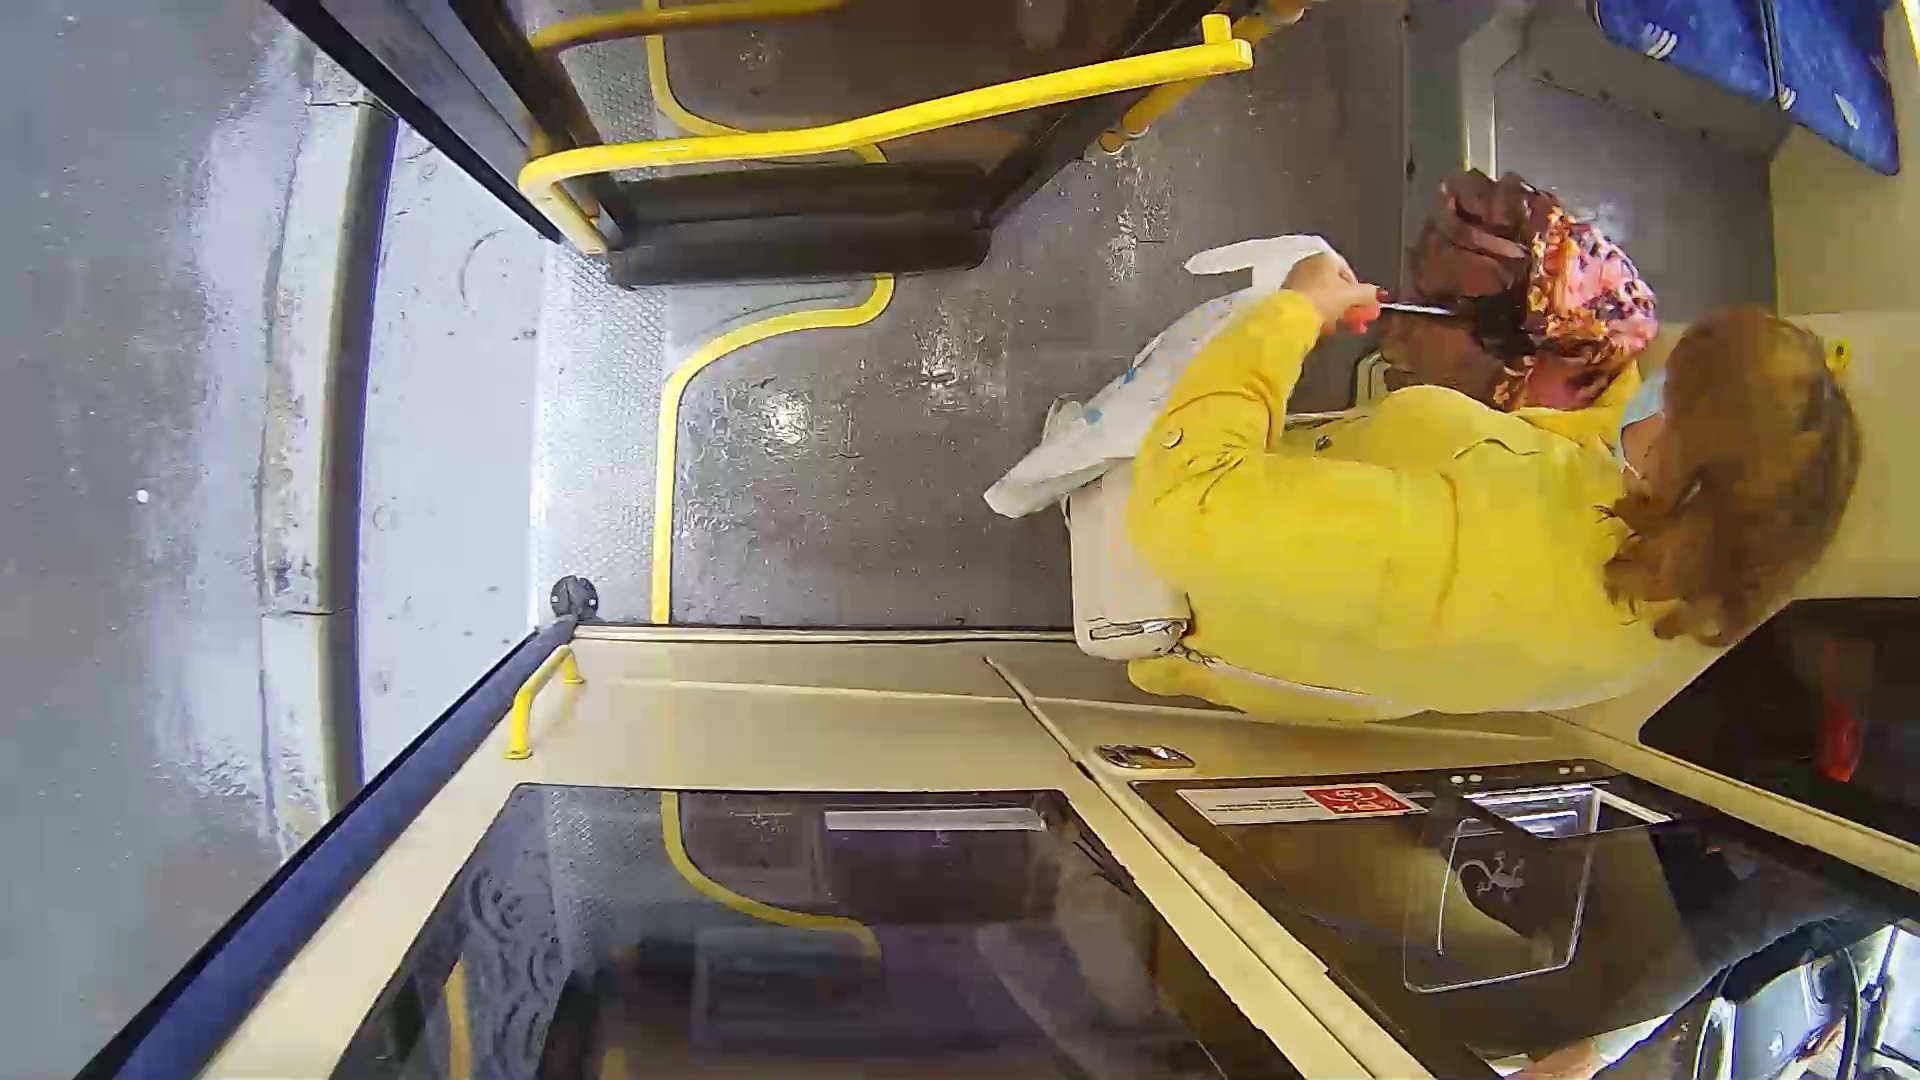person: (1096, 151, 1860, 763)
